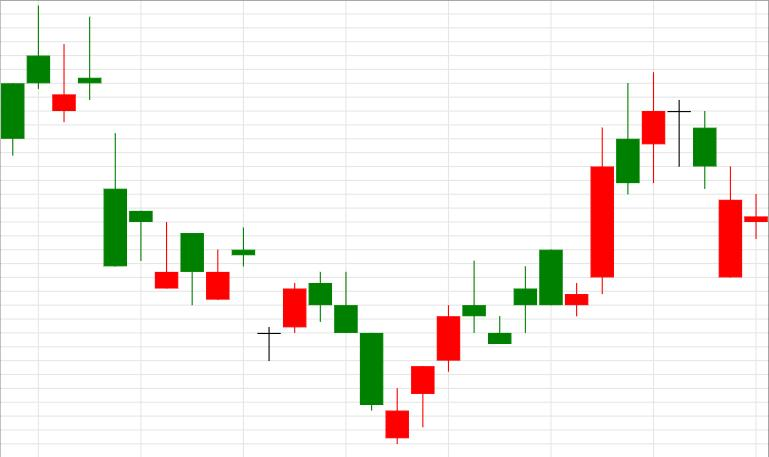shooting_star_fall: (488, 84, 639, 344)
three_white_soldiers_rise: (309, 271, 460, 444)
